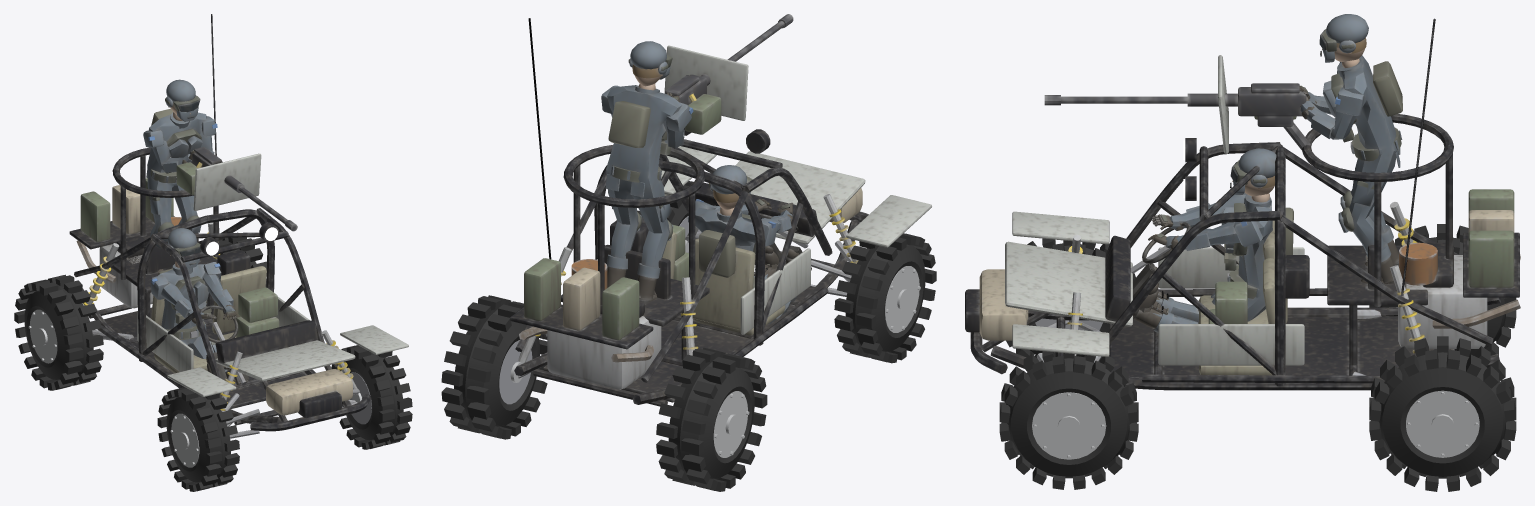
Rendered from dunebuggy.glb.
3 renders of one model, left to right at view 1: azimuth 30°, elevation 25°; view 2: azimuth 150°, elevation 25°; view 3: azimuth 270°, elevation 25°, orthographic. The views are drawn at different scales.
Parts seen in each view (by area): view 1: Hull, Turret, WheelRL, WheelFL, WheelFR, WheelRR; view 2: Hull, Turret, WheelRL, WheelRR, WheelFL, WheelFR; view 3: Hull, Turret, WheelRR, WheelFR, WheelRL, WheelFL.
Part boxes in pixels (<box>): Hull: <box>69,14,408,438</box>; Turret: <box>143,79,297,272</box>; WheelRL: <box>14,274,103,390</box>; WheelFL: <box>157,387,239,491</box>; WheelFR: <box>331,345,412,449</box>; WheelRR: <box>219,232,266,287</box>; Hull: <box>510,18,931,406</box>; Turret: <box>601,14,793,305</box>; WheelRL: <box>656,347,767,491</box>; WheelRR: <box>441,295,547,439</box>; WheelFL: <box>834,233,936,363</box>; WheelFR: <box>637,181,699,252</box>; Hull: <box>965,18,1520,390</box>; Turret: <box>1044,14,1402,283</box>; WheelRR: <box>1369,336,1516,491</box>; WheelFR: <box>999,351,1138,489</box>; WheelRL: <box>1369,224,1516,356</box>; WheelFL: <box>1006,238,1135,362</box>.
Bounding box in the file's own units: 1.98 × 3.03 × 3.42.
57 materials, 53 textured.
